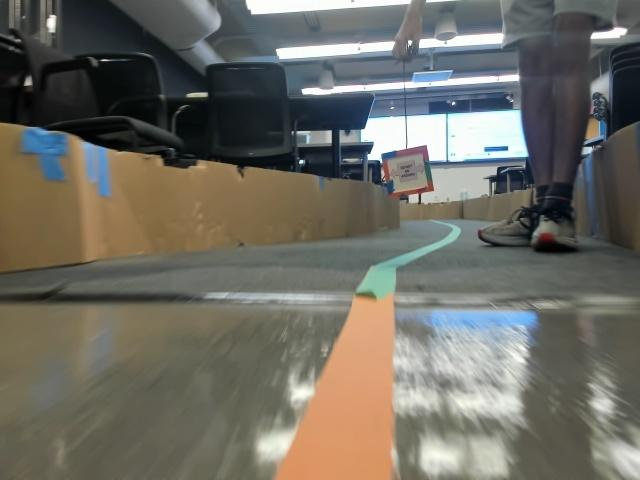Do Not Go Around: (388, 163, 422, 182)
